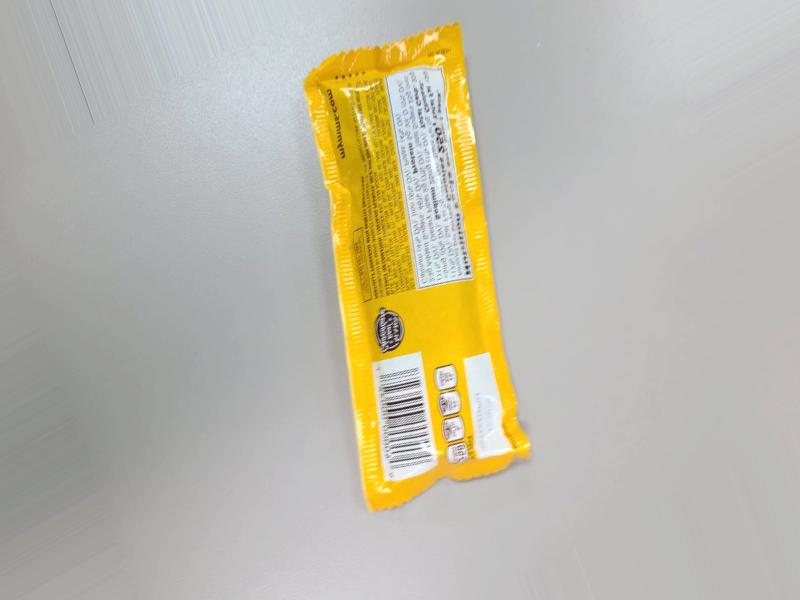m&m: (363, 5, 552, 517)
